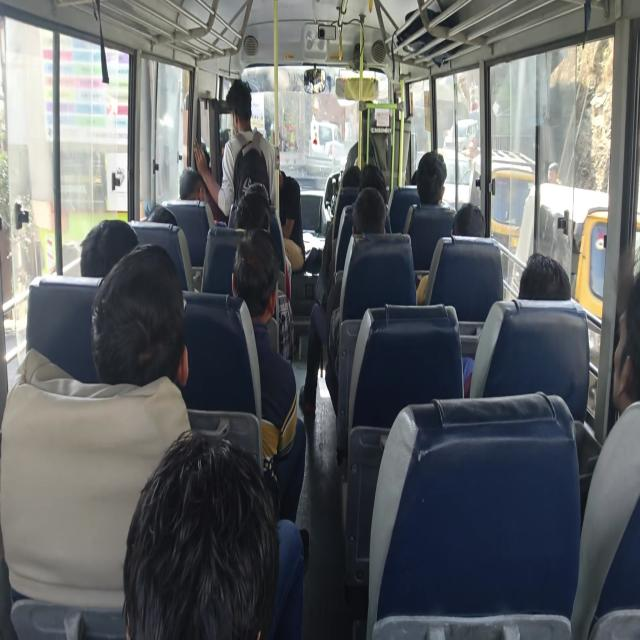person: (122, 428, 304, 638), (570, 267, 639, 638), (231, 227, 307, 524), (298, 186, 387, 417), (462, 252, 571, 397), (90, 242, 190, 390), (193, 78, 277, 224), (416, 202, 485, 304), (512, 161, 560, 293), (402, 150, 452, 234), (80, 218, 138, 278), (278, 168, 305, 271), (517, 252, 571, 300), (416, 150, 448, 206), (451, 202, 485, 237), (179, 166, 203, 200)
